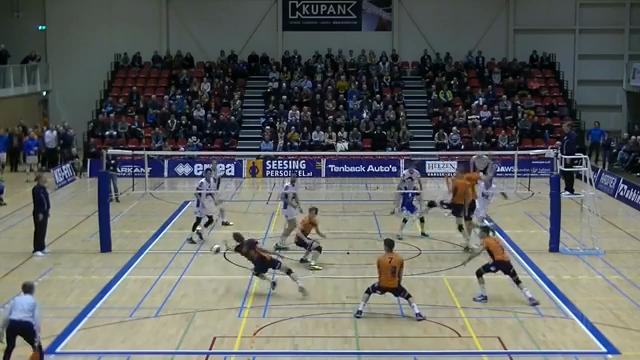Dig: (218, 229, 310, 298)
Player: (465, 225, 538, 305), (354, 238, 424, 320), (232, 232, 306, 294), (442, 167, 479, 250), (391, 178, 427, 239), (187, 168, 216, 243), (274, 174, 302, 250), (295, 207, 325, 269), (212, 160, 232, 225), (474, 177, 495, 225), (398, 162, 422, 191)
ball: (209, 242, 222, 258)
